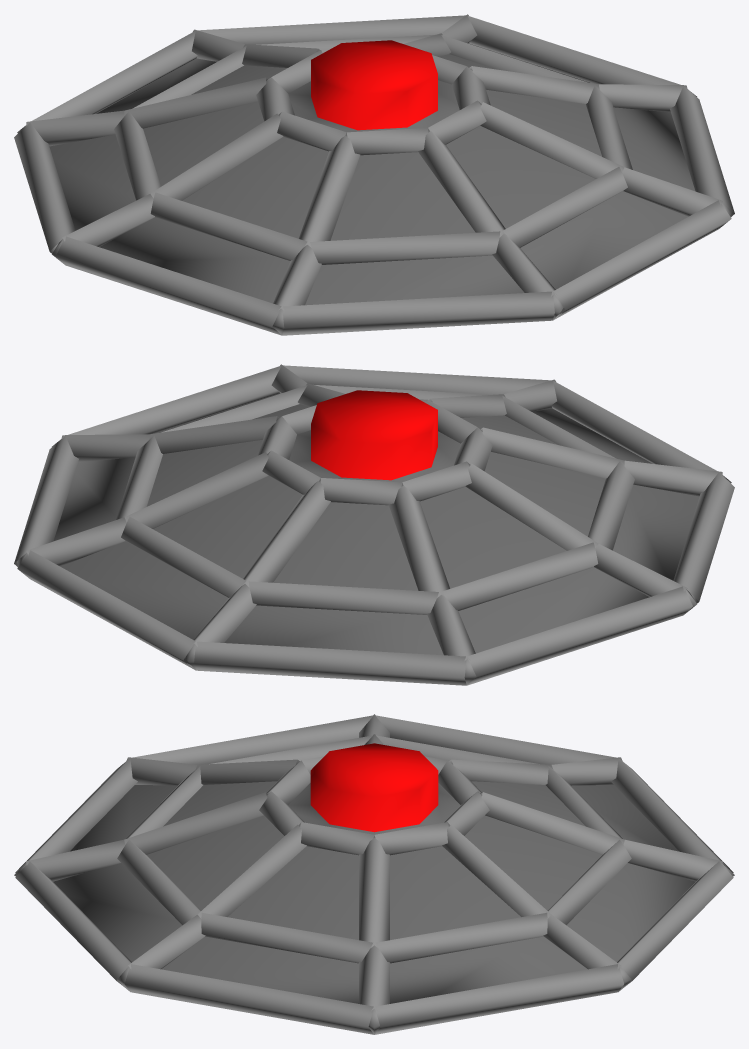
Rendered from land mine.fbx.
3 views of the same model, one above another, from view 1: azimuth 30°, elevation 25°; view 2: azimuth 150°, elevation 25°; view 3: azimuth 270°, elevation 25° (orthographic). The views are drawn at different scales.
Visible parts, largest first — view 1: Land_mine; view 2: Land_mine; view 3: Land_mine.
Part boxes in pixels (x1,y1,x2,y2): Land_mine: (14,14,734,335); Land_mine: (14,364,734,685); Land_mine: (14,714,734,1034).
Size of the model in its own units: 231 by 42.07 by 231.
